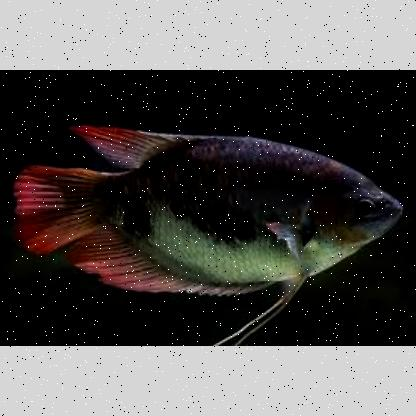gurame: (11, 124, 405, 294)
